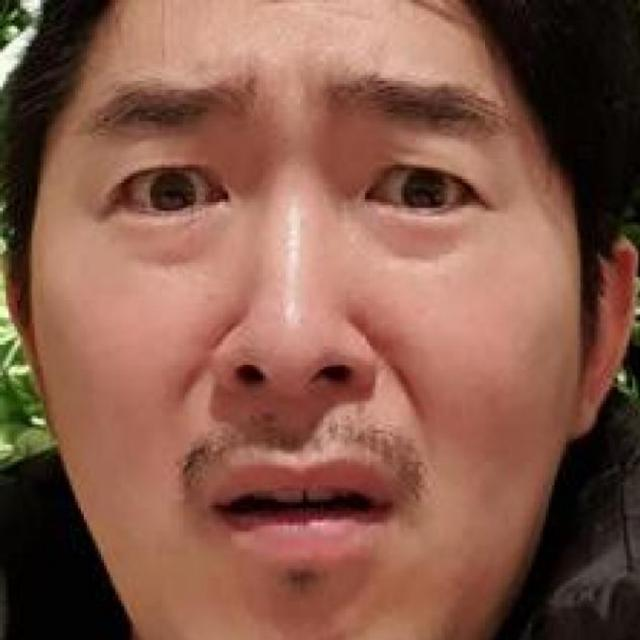Disgust: (59, 2, 529, 640)
